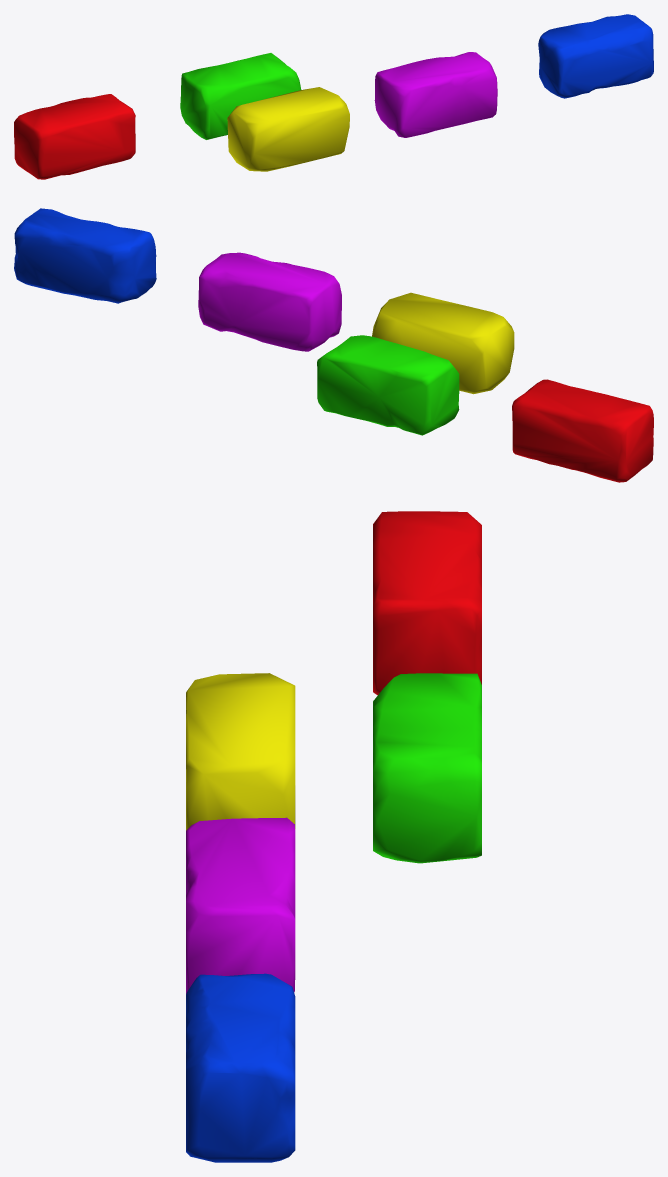
File: sharp bricks.fbx
3 renders of one model, top to bottom at view 1: azimuth 30°, elevation 25°; view 2: azimuth 150°, elevation 25°; view 3: azimuth 270°, elevation 25°, orthographic. The views are drawn at different scales.
Parts seen in each view (by area): view 1: brick 4, brick 1, brick 3, brick 5, brick 2; view 2: brick 1, brick 4, brick 2, brick 5, brick 3; view 3: brick 5, brick 2, brick 1, brick 4, brick 3.
Boxes of the visible parts, x1,y1,x2,y2 form: brick 4: [374, 52, 497, 137]; brick 1: [14, 94, 135, 179]; brick 3: [227, 87, 349, 171]; brick 5: [538, 14, 653, 98]; brick 2: [180, 53, 301, 139]; brick 1: [512, 379, 653, 482]; brick 4: [198, 252, 341, 351]; brick 2: [317, 335, 459, 435]; brick 5: [14, 208, 156, 303]; brick 3: [372, 292, 514, 394]; brick 5: [186, 973, 295, 1162]; brick 2: [373, 673, 481, 863]; brick 1: [373, 511, 481, 695]; brick 4: [186, 817, 295, 993]; brick 3: [186, 673, 295, 830].
Size of the model in its own units: 230 by 19.07 by 51.69.
